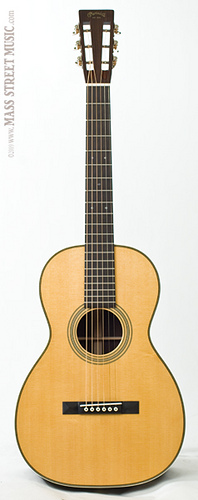guitar: (15, 6, 186, 493)
